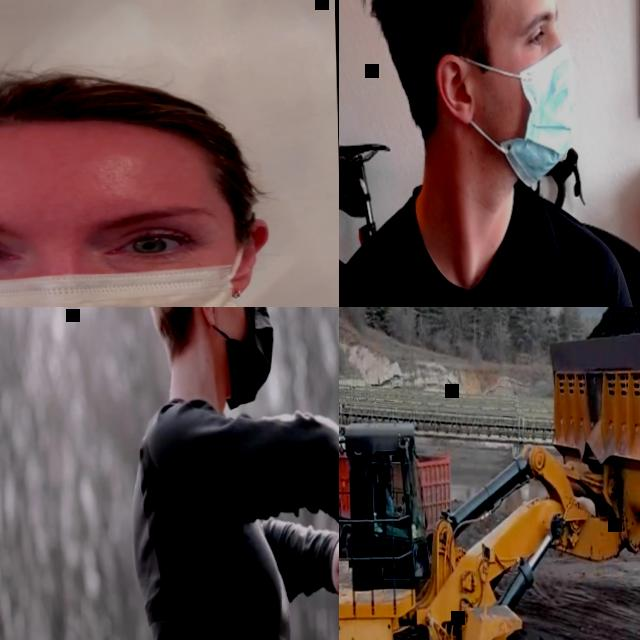Mask: (0, 215, 252, 307), (454, 43, 579, 189), (222, 307, 273, 405)
NO-Hardhat: (0, 67, 239, 183), (382, 464, 390, 475)
NO-Mask: (384, 477, 391, 486)
NO-Safety Vest: (127, 411, 289, 640), (343, 196, 587, 307), (385, 488, 394, 517)
Person: (339, 0, 640, 307), (0, 66, 339, 307), (118, 307, 339, 640), (381, 462, 407, 533)
vehicle: (339, 319, 640, 640), (339, 426, 457, 558)
